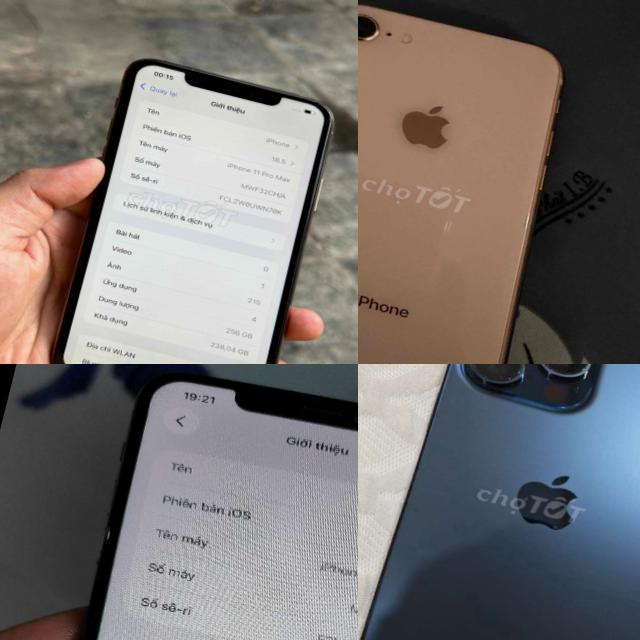gen_11: (39, 36, 356, 364), (0, 364, 358, 640)
gen_15: (358, 364, 640, 640)
gen_7_8: (358, 0, 590, 364)
